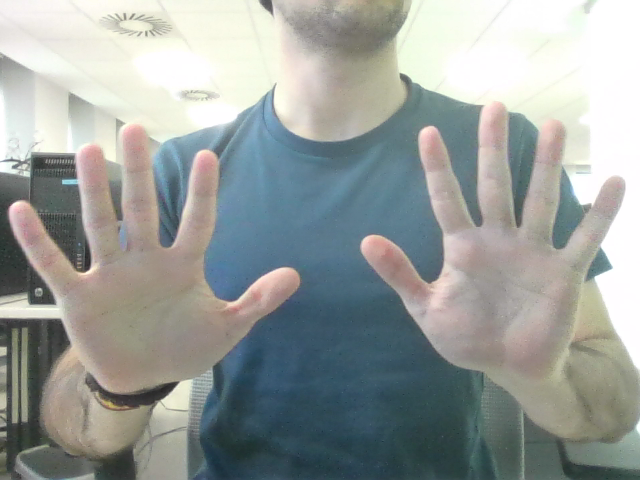Manos Arriba: (52, 127, 586, 343)
